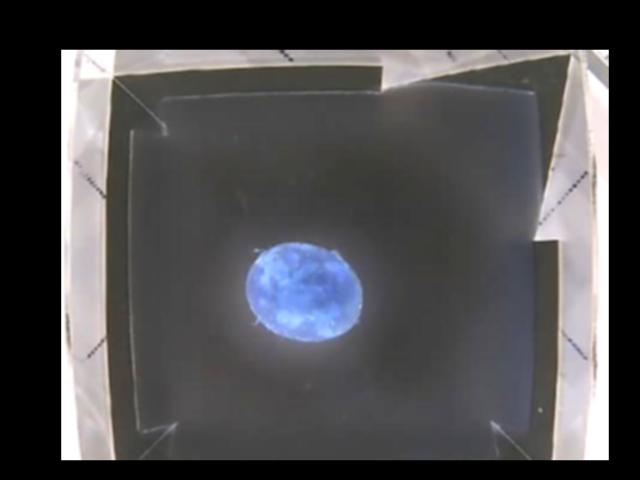Potato: (245, 243, 364, 341)
